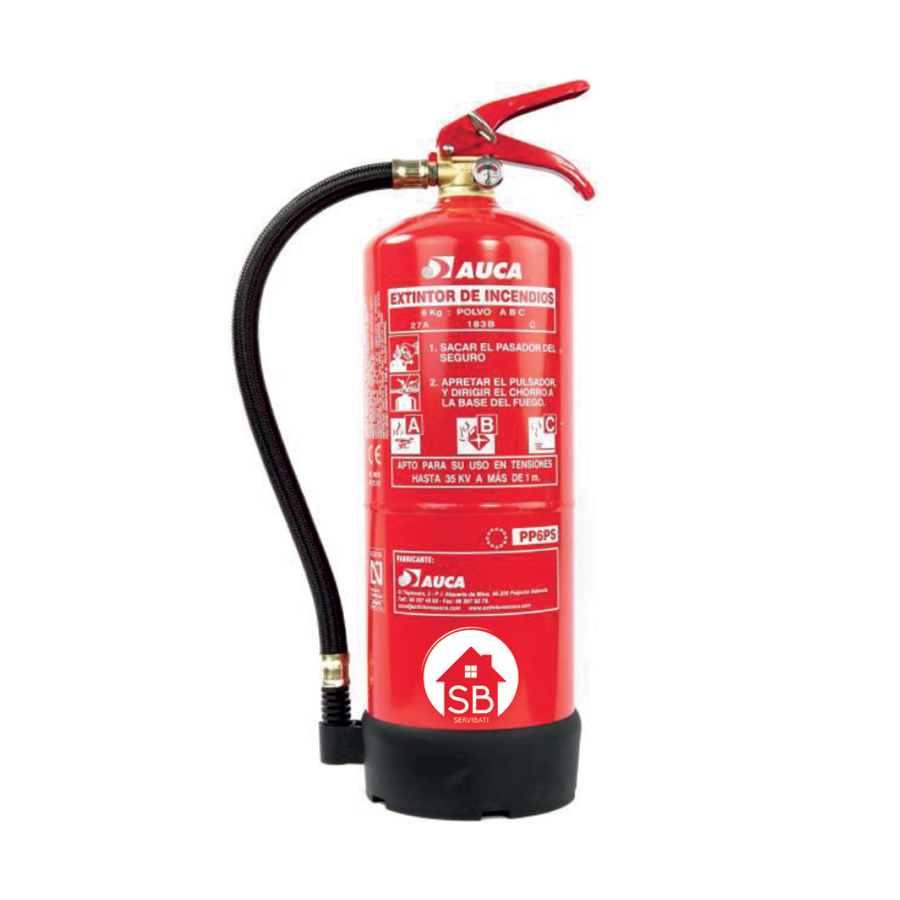Extincteur: (316, 383, 643, 498)
